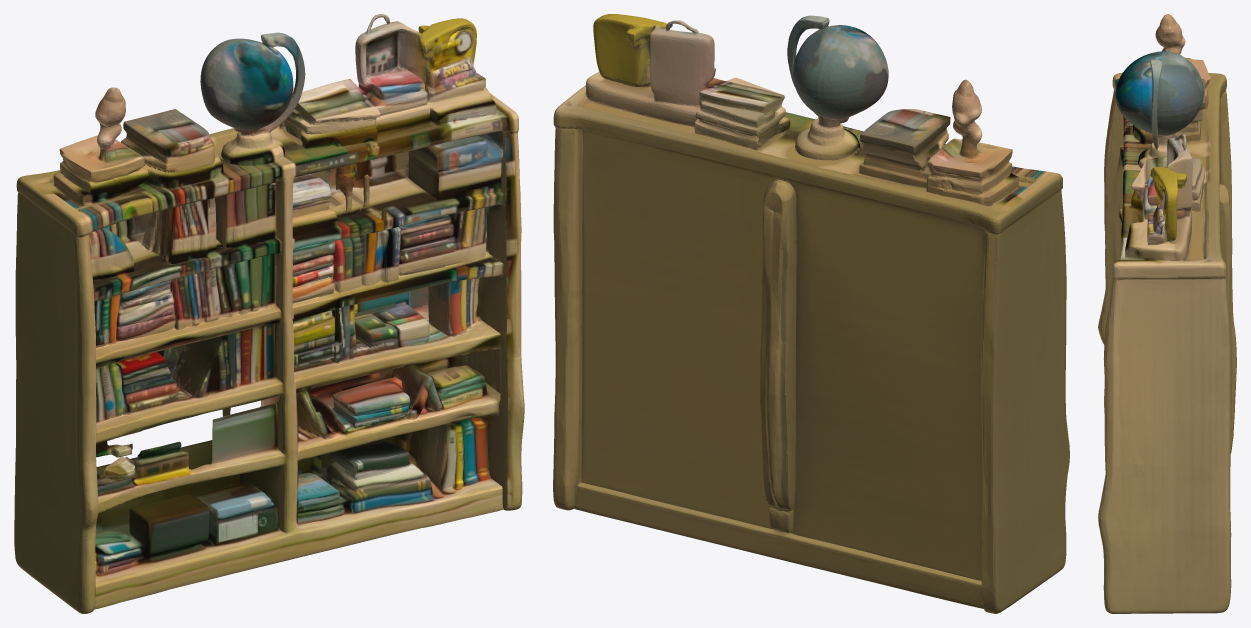
File: bookshelf.glb
3 views of the same model, side by side, from view 1: azimuth 30°, elevation 25°; view 2: azimuth 150°, elevation 25°; view 3: azimuth 270°, elevation 25° (orthographic). The views are drawn at different scales.
Parts seen in each view (by area): view 1: geometry_0; view 2: geometry_0; view 3: geometry_0.
Part boxes in pixels (left/top/right/bottom): geometry_0: left=14, top=14, right=524, bottom=613; geometry_0: left=553, top=14, right=1069, bottom=613; geometry_0: left=1098, top=14, right=1236, bottom=613.
Size of the model in its own units: 0.9116 by 0.9971 by 0.2764.
1 material, 1 textured.
